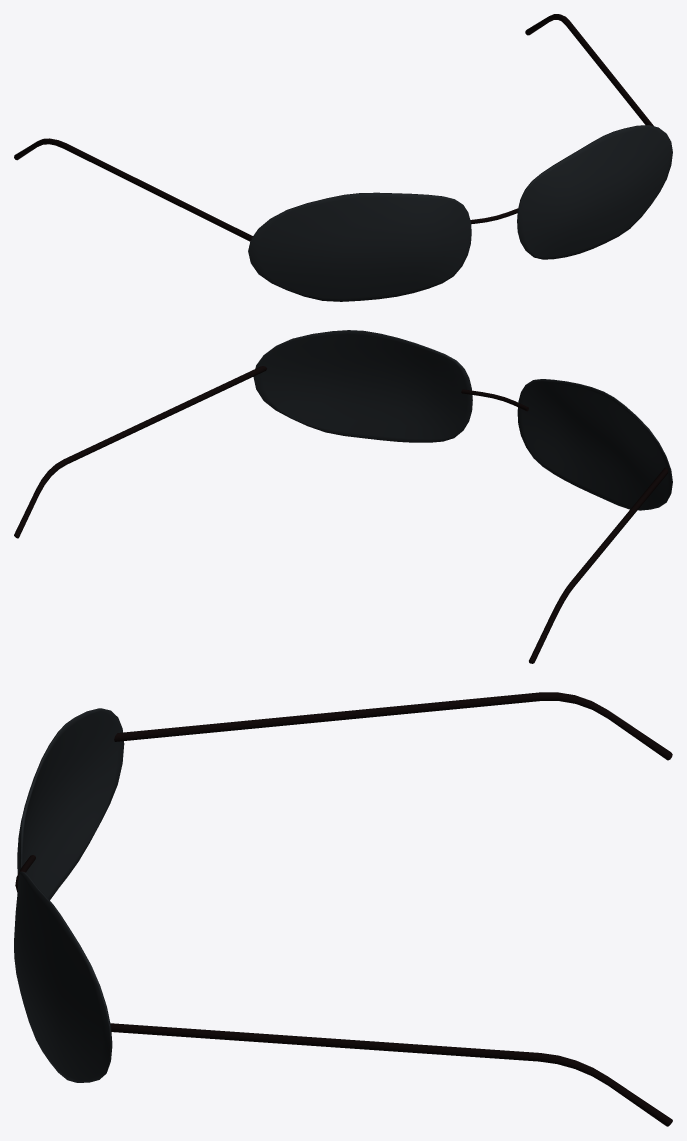
The model's file is The_One.glb.
3 views of the same model, one above another, from view 1: azimuth 30°, elevation 25°; view 2: azimuth 150°, elevation 25°; view 3: azimuth 270°, elevation 25° (orthographic). The views are drawn at different scales.
Parts seen in each view (by area): view 1: The One; view 2: The One; view 3: The One.
Part boxes in pixels (box(x1,y1,x2,y2)): The One: box(14, 14, 672, 301); The One: box(14, 330, 672, 663); The One: box(14, 692, 672, 1126).
Bounding box in the file's own units: 0.8436 × 0.1665 × 0.634.
1 material, 1 textured.
